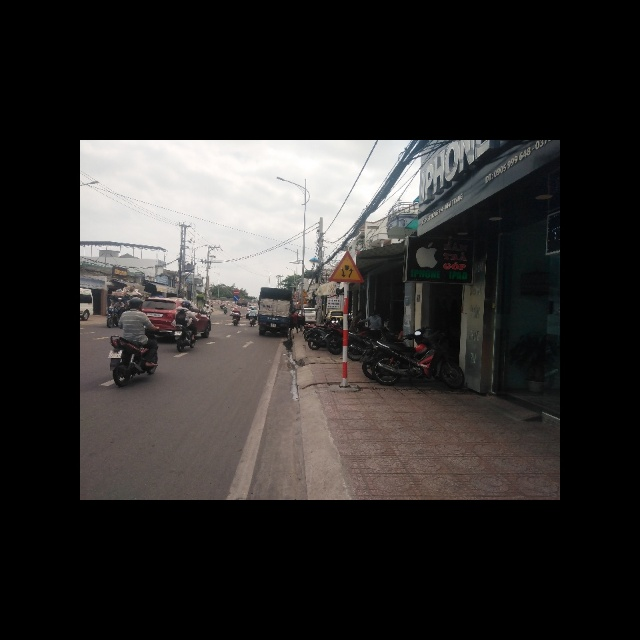Đường đôi: (328, 251, 365, 284)
